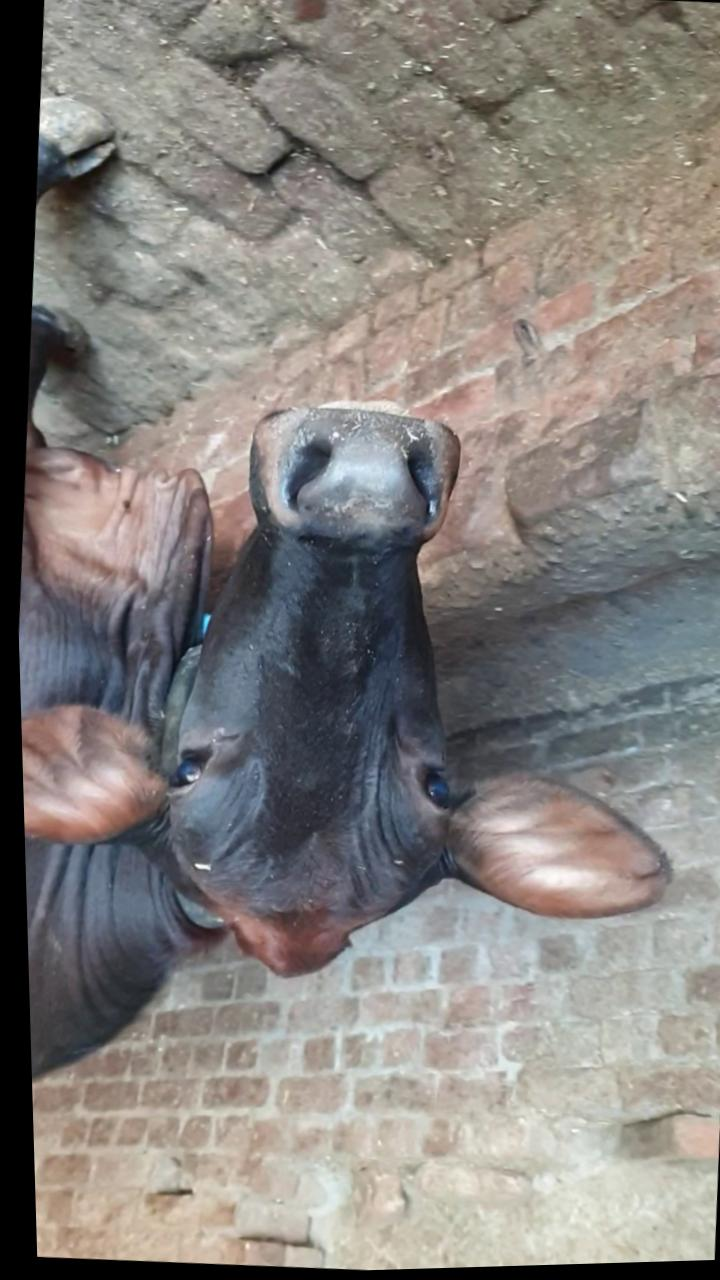cows: (134, 355, 511, 959)
